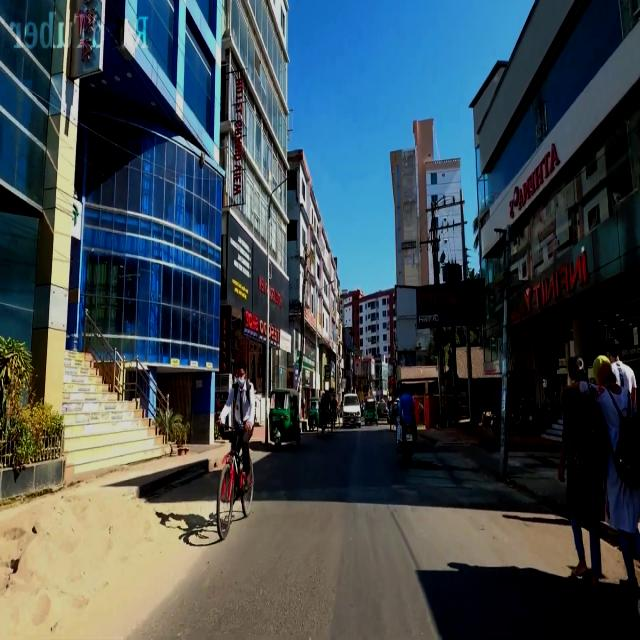white: (340, 387, 363, 431)
